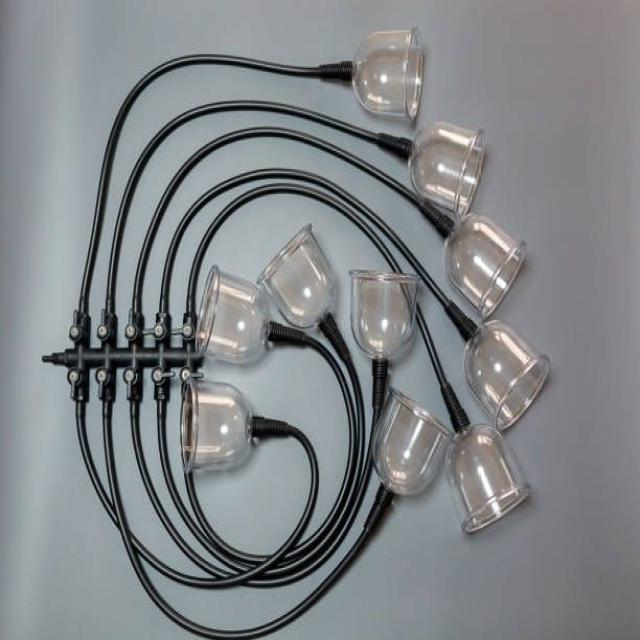electronic: (194, 222, 336, 364), (462, 318, 549, 430), (444, 421, 530, 533), (442, 211, 526, 320), (370, 385, 451, 496), (257, 222, 336, 328), (193, 264, 270, 364), (407, 120, 485, 218), (179, 377, 254, 474), (350, 26, 424, 122), (348, 268, 418, 360)
